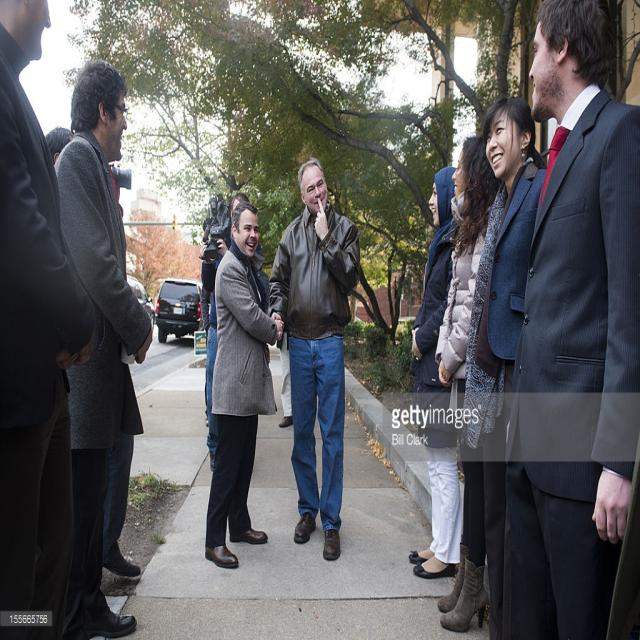body: (502, 0, 640, 639), (0, 0, 102, 639), (53, 54, 155, 638), (459, 93, 549, 640), (265, 154, 363, 567), (436, 131, 502, 631), (202, 198, 287, 576), (408, 164, 464, 583), (204, 190, 269, 475), (92, 344, 145, 587), (274, 319, 296, 433), (41, 112, 78, 175), (202, 375, 210, 435)
